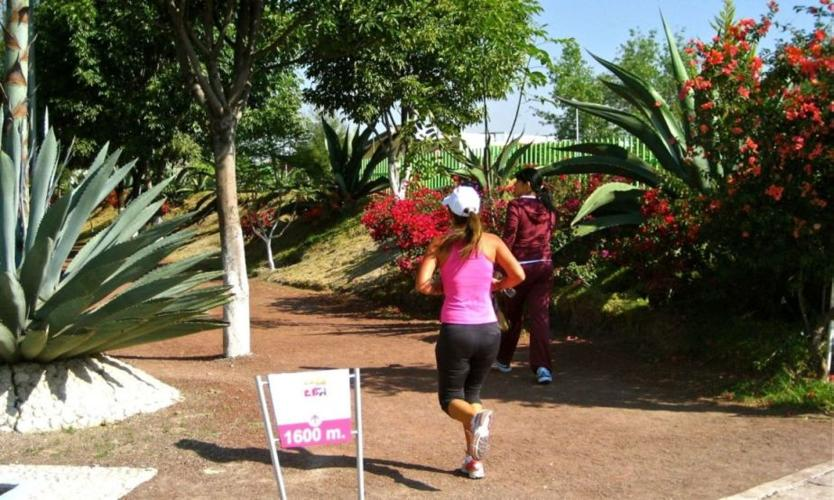person: (416, 185, 527, 481)
